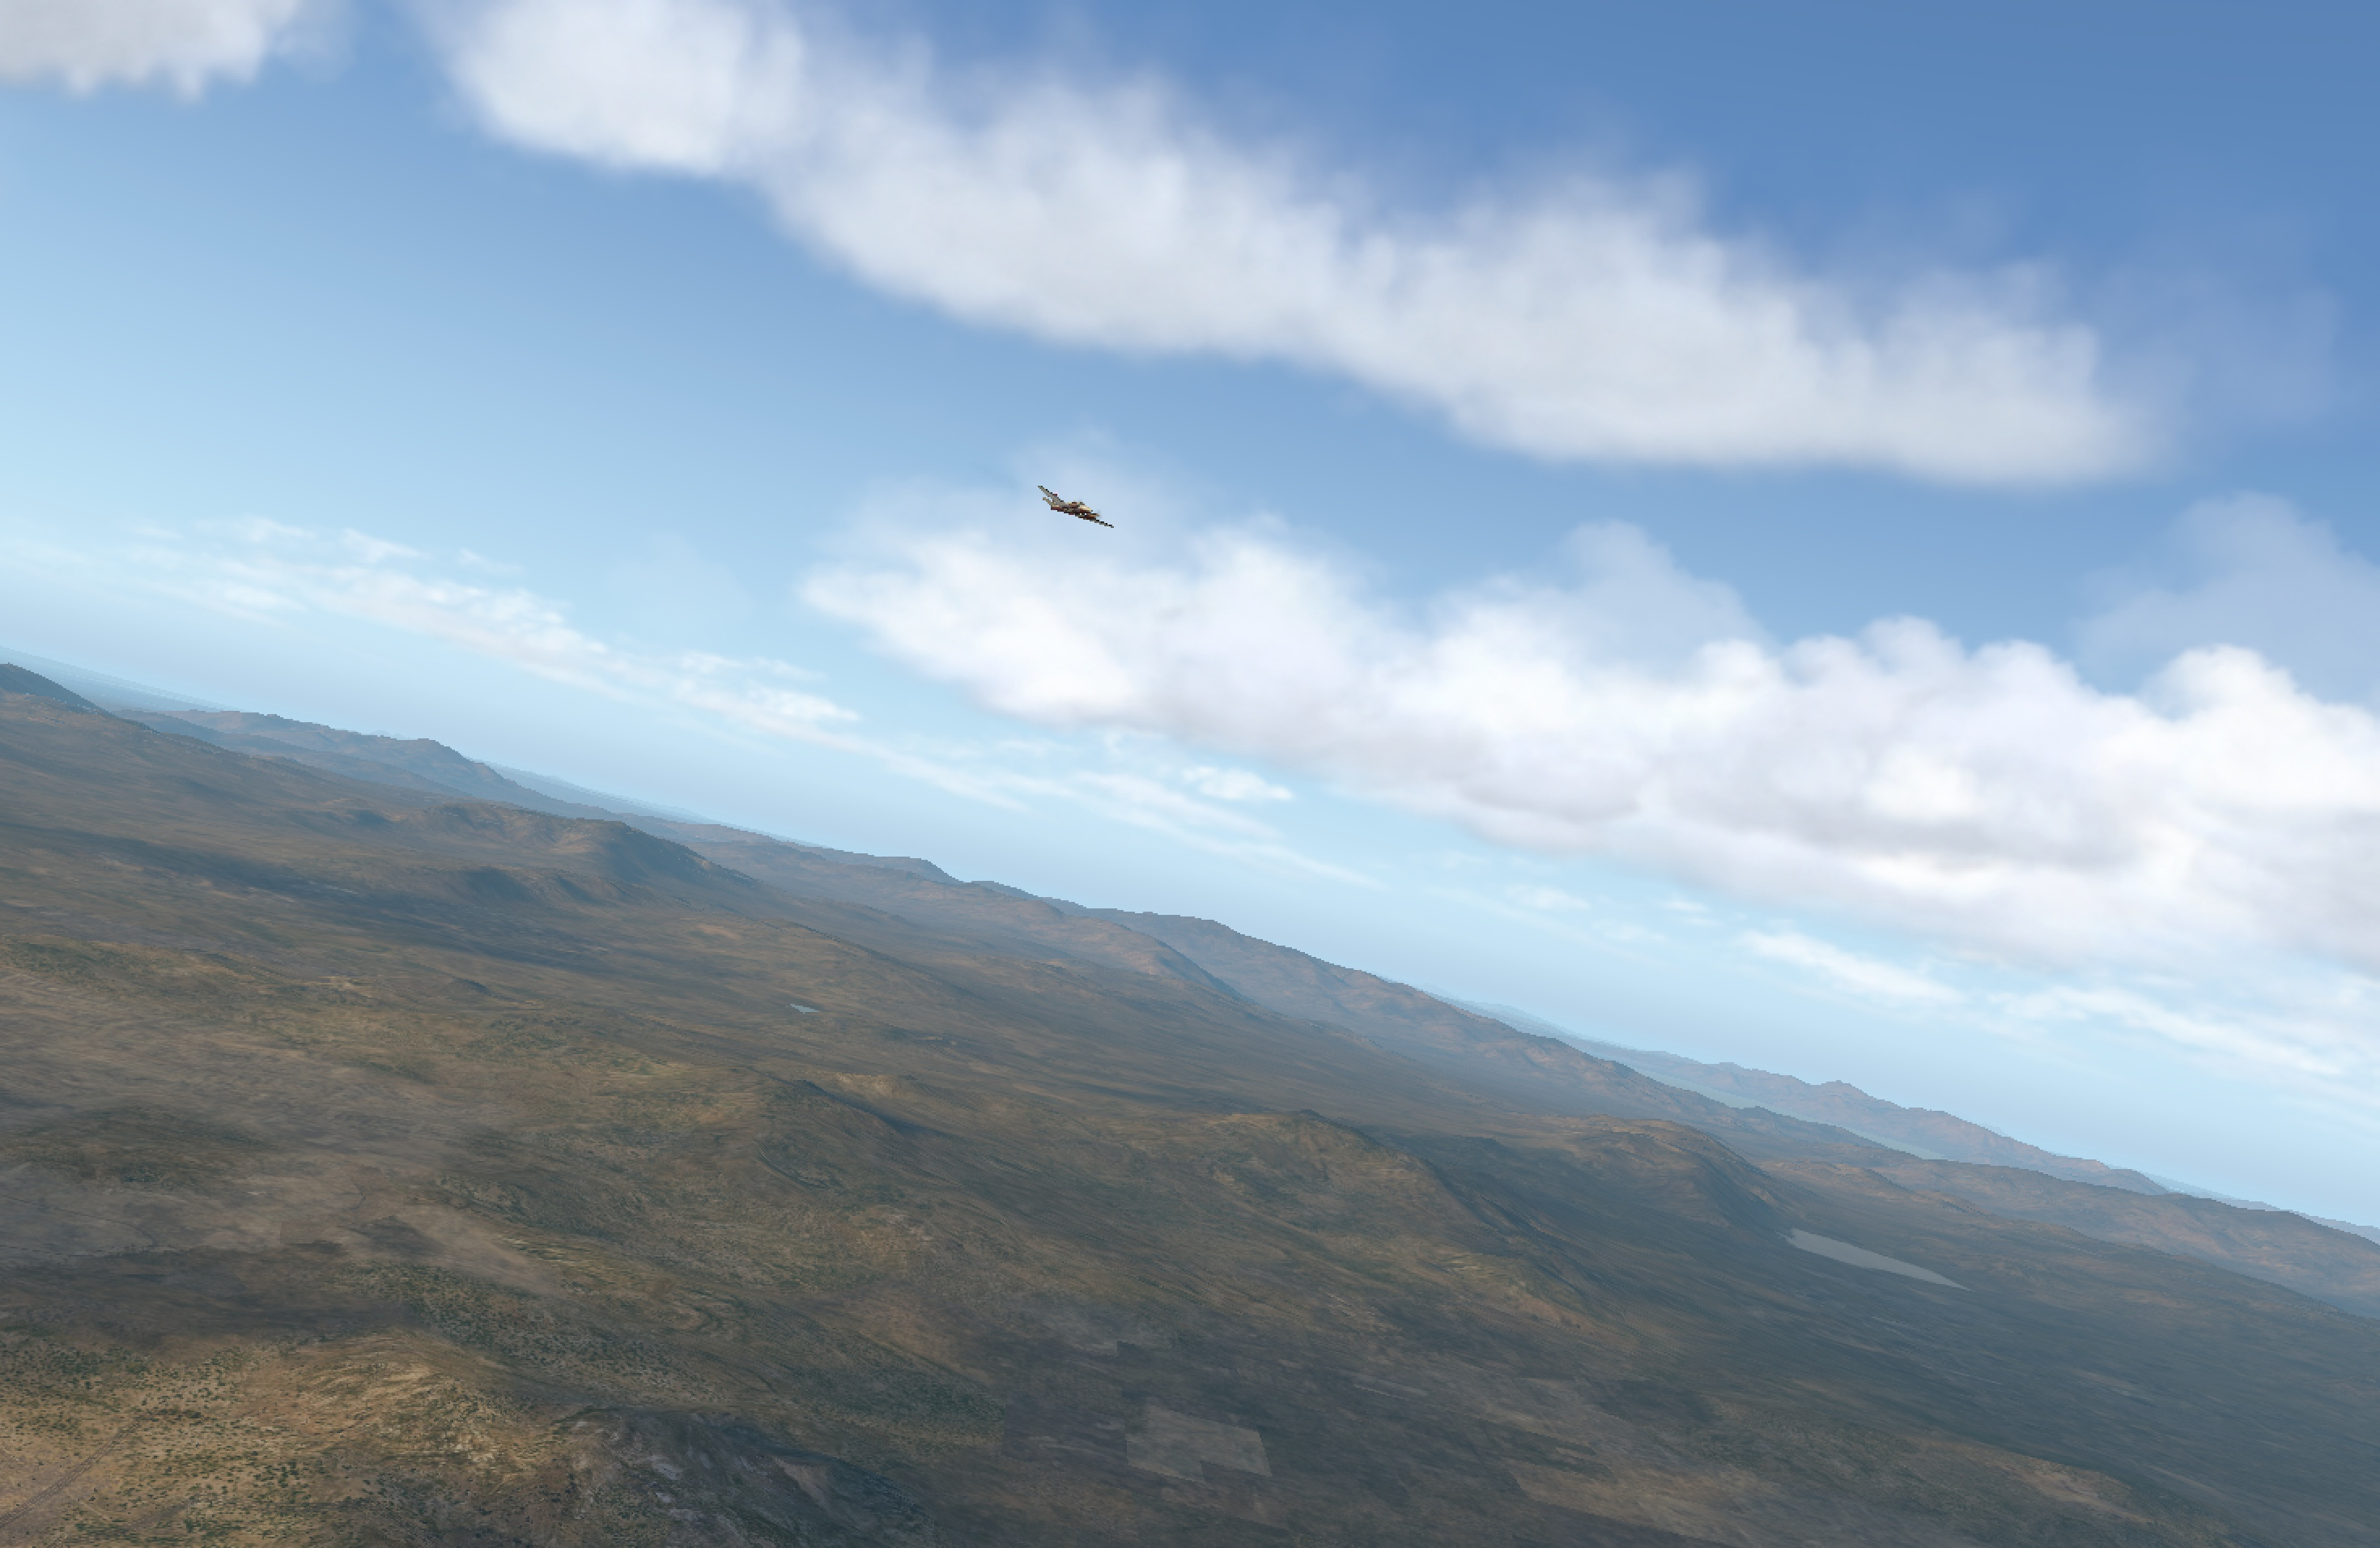aircraft: (1025, 493, 1128, 533)
